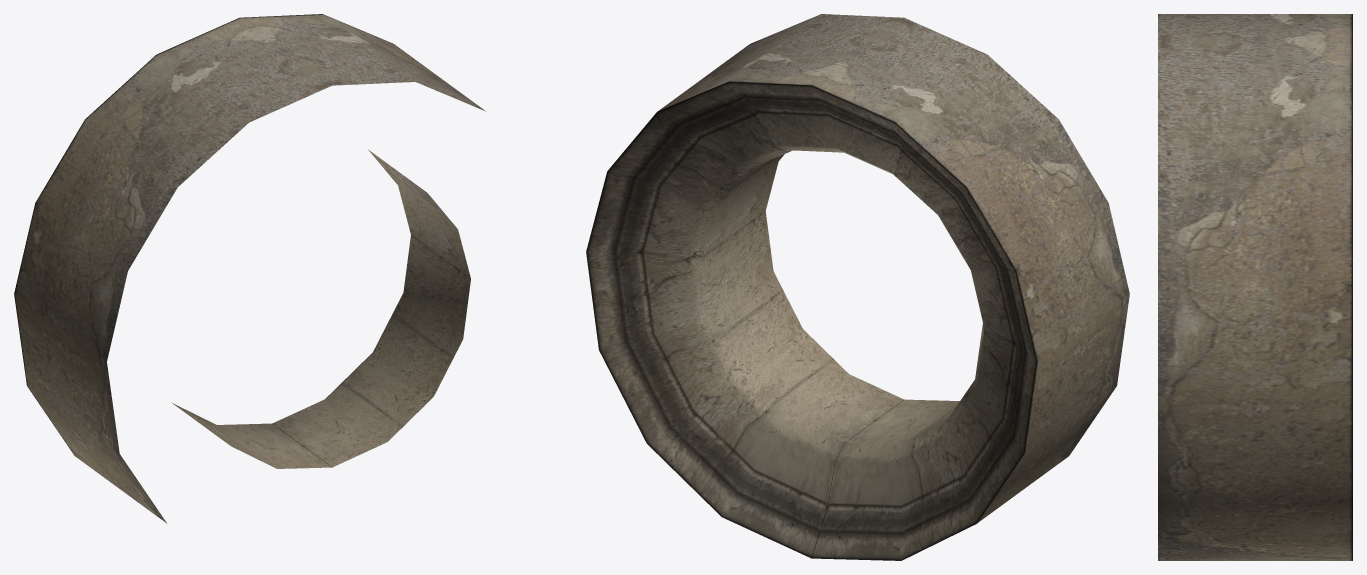
Rendered from Sponza77.gltf.
The picture shows the model from 3 angles, left to right: view 1: azimuth 30°, elevation 25°; view 2: azimuth 150°, elevation 25°; view 3: azimuth 270°, elevation 25°; orthographic projection. The views are drawn at different scales.
Bounding box in the file's own units: 0.4597 × 0.4607 × 0.1639.
Materials: 1 (1 with a texture image).
